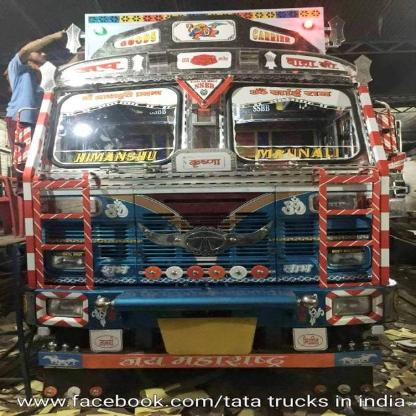truck: (11, 42, 404, 382)
